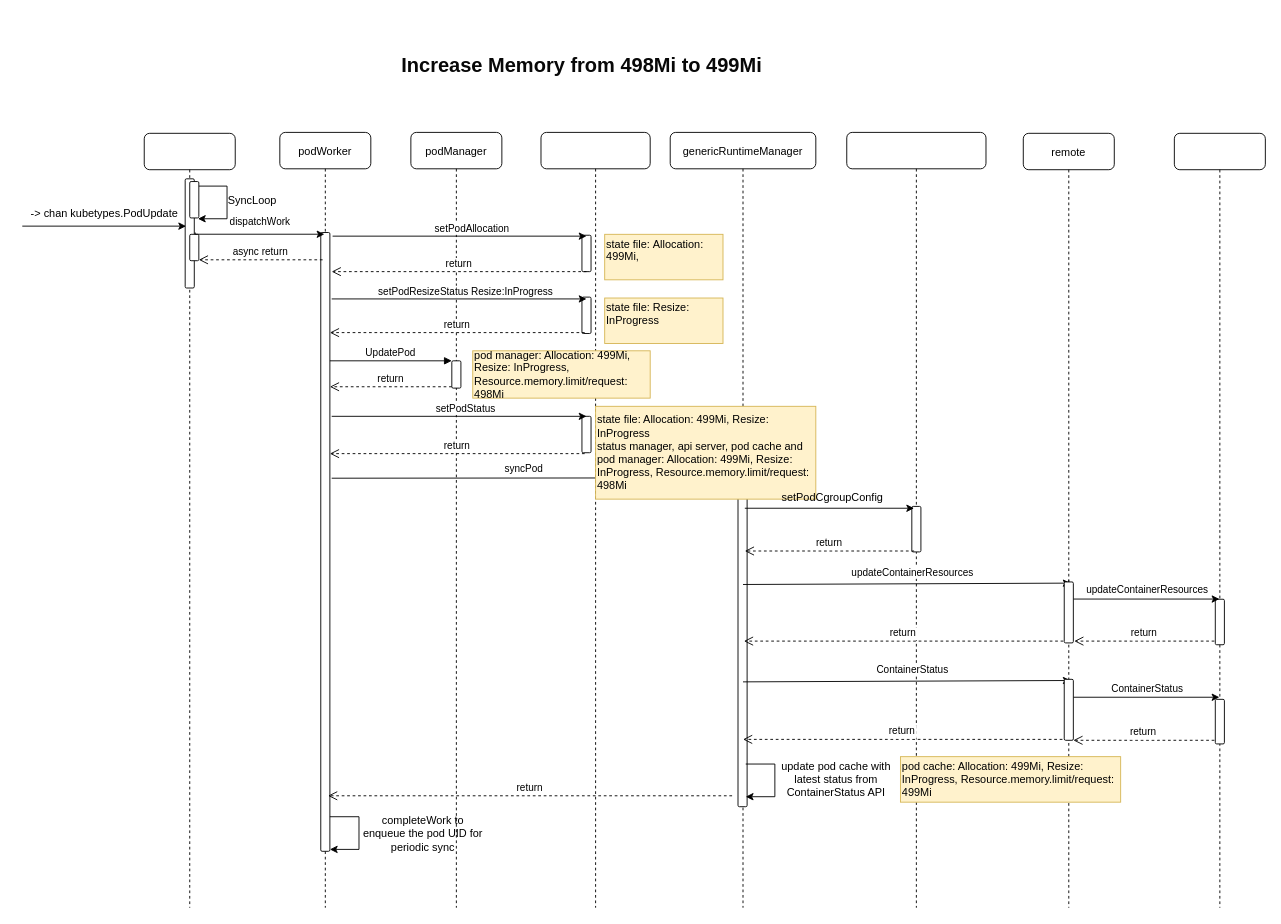
Image size: 1281x924. Some labels were removed from this diagram. The box of each missing label's shape, as (x1, y1, x2, y2) in pixels:
containerd: (1173, 132, 1265, 908)
kubelet: (143, 132, 235, 908)
podContainerManager: (846, 131, 986, 908)
statusManager: (540, 131, 650, 908)
